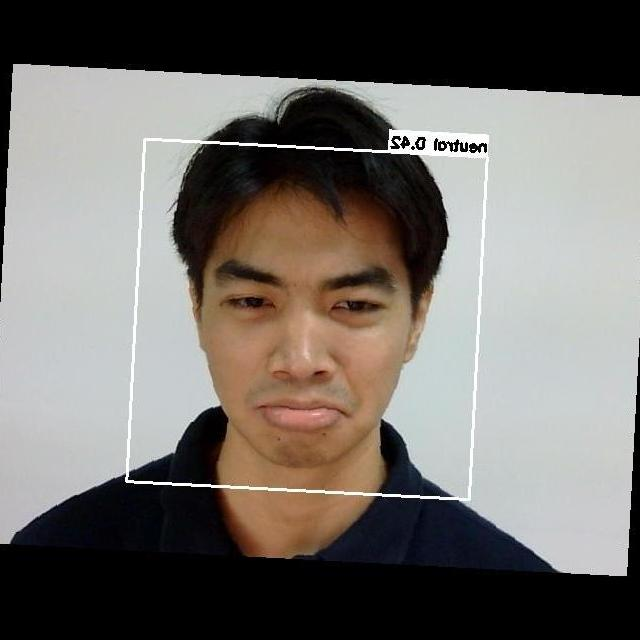Sad: (181, 223, 432, 455)
